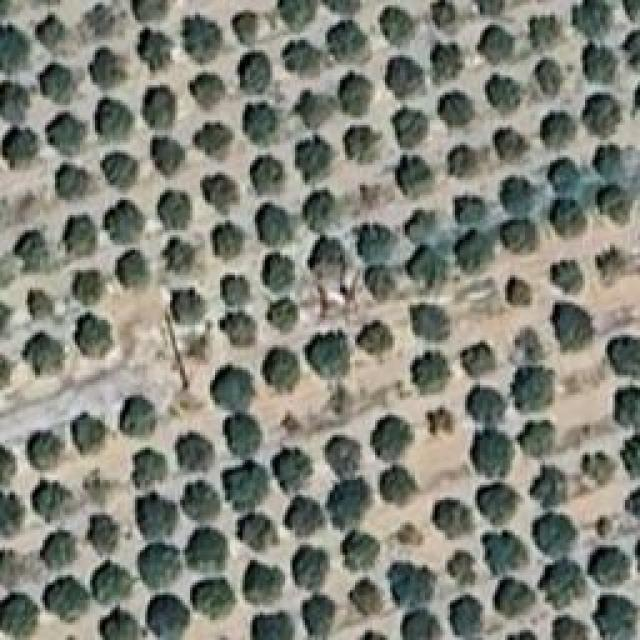Tree: (390, 153, 445, 206), (325, 478, 374, 527), (305, 330, 353, 377), (225, 458, 268, 510), (405, 245, 452, 292), (330, 15, 375, 64), (207, 363, 251, 413), (240, 563, 284, 613), (304, 185, 344, 238), (543, 560, 588, 607), (495, 575, 539, 623), (482, 525, 521, 579), (95, 560, 141, 605), (513, 368, 559, 413), (142, 543, 185, 590), (555, 305, 600, 349), (70, 313, 114, 358), (497, 172, 542, 215), (307, 238, 349, 284), (463, 385, 510, 426), (192, 577, 236, 620), (535, 512, 580, 554), (295, 550, 336, 596), (185, 527, 228, 570), (135, 497, 177, 541), (357, 317, 399, 361), (102, 205, 144, 249), (22, 333, 62, 379), (530, 468, 569, 515), (475, 480, 518, 522), (30, 480, 71, 524), (40, 577, 84, 618), (142, 592, 186, 633), (95, 93, 133, 140), (522, 10, 564, 52), (110, 397, 153, 438), (520, 417, 564, 457), (600, 593, 639, 638), (500, 218, 547, 255), (25, 432, 66, 474), (472, 435, 513, 477), (322, 435, 362, 478), (475, 20, 515, 63), (297, 595, 336, 639), (0, 25, 33, 77), (540, 112, 579, 156), (335, 70, 373, 115), (298, 130, 331, 181), (208, 220, 248, 262), (112, 250, 151, 293), (448, 186, 497, 220), (507, 325, 552, 362), (130, 450, 170, 491), (590, 542, 630, 583), (255, 203, 293, 246), (340, 532, 378, 575), (5, 593, 42, 637), (265, 347, 301, 392), (5, 120, 37, 170), (410, 302, 451, 341), (295, 85, 336, 124), (360, 263, 404, 299), (235, 513, 280, 548), (13, 235, 58, 270), (360, 222, 400, 261), (182, 18, 224, 55), (273, 450, 309, 493), (585, 92, 621, 135), (44, 60, 78, 105), (52, 165, 91, 204), (274, 0, 313, 39), (225, 417, 265, 455), (92, 42, 130, 82), (100, 150, 140, 188), (380, 462, 416, 504), (448, 598, 484, 640), (138, 28, 173, 71), (391, 562, 428, 602), (418, 352, 455, 392), (235, 8, 275, 45), (407, 208, 447, 245), (460, 230, 496, 271), (178, 435, 213, 477), (595, 250, 637, 285), (367, 418, 410, 452), (70, 415, 103, 459), (50, 110, 83, 154), (457, 338, 497, 374), (248, 155, 284, 195), (535, 62, 570, 103), (143, 88, 177, 130), (255, 607, 298, 640), (42, 533, 80, 570), (437, 83, 475, 120), (580, 43, 618, 80), (195, 123, 234, 159), (170, 287, 205, 327), (70, 262, 105, 302), (0, 78, 31, 123), (88, 515, 124, 553), (430, 42, 466, 80), (432, 498, 470, 534), (158, 190, 192, 230), (205, 174, 239, 214), (245, 100, 278, 141), (288, 498, 325, 534), (346, 130, 384, 165), (105, 607, 145, 640), (238, 52, 271, 92), (190, 73, 226, 109), (490, 125, 527, 160), (583, 447, 617, 485), (400, 610, 443, 640), (577, 0, 616, 33), (553, 200, 589, 235), (603, 188, 640, 222), (58, 213, 92, 250), (220, 270, 253, 308), (263, 252, 294, 292), (283, 44, 319, 78), (490, 75, 527, 108), (153, 138, 185, 176), (220, 313, 255, 347), (183, 488, 218, 522), (38, 18, 72, 53), (163, 238, 196, 274), (268, 297, 301, 332), (395, 113, 427, 149), (612, 342, 640, 383), (550, 157, 579, 196), (391, 58, 424, 92), (504, 275, 538, 307), (555, 260, 584, 297), (428, 403, 460, 436), (595, 145, 627, 178), (451, 145, 484, 177), (355, 580, 382, 618), (448, 550, 475, 588), (555, 610, 589, 640), (25, 290, 56, 322), (390, 515, 426, 542), (133, 0, 168, 27), (0, 545, 21, 589), (83, 0, 117, 27), (383, 10, 413, 39), (0, 442, 19, 485), (620, 387, 640, 427), (620, 438, 640, 478), (320, 0, 361, 18), (0, 498, 21, 533), (622, 482, 640, 520), (433, 0, 456, 27), (470, 0, 500, 15)
